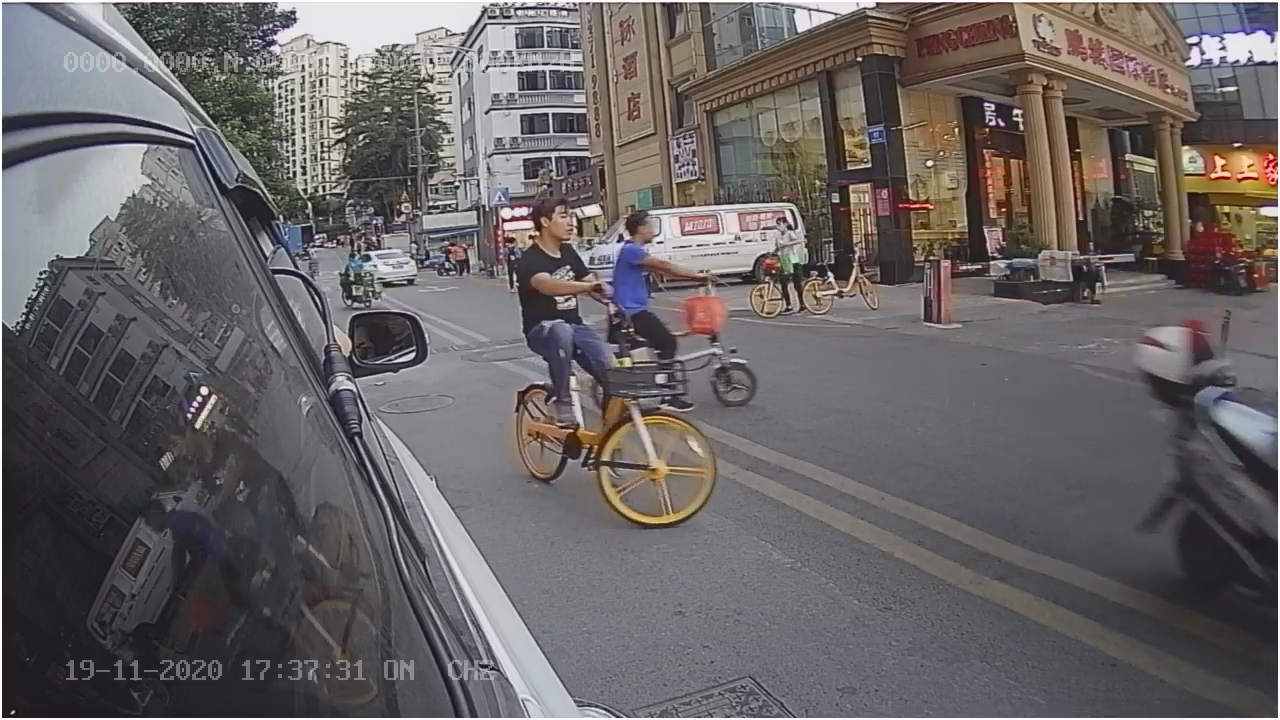person: (512, 193, 612, 346)
